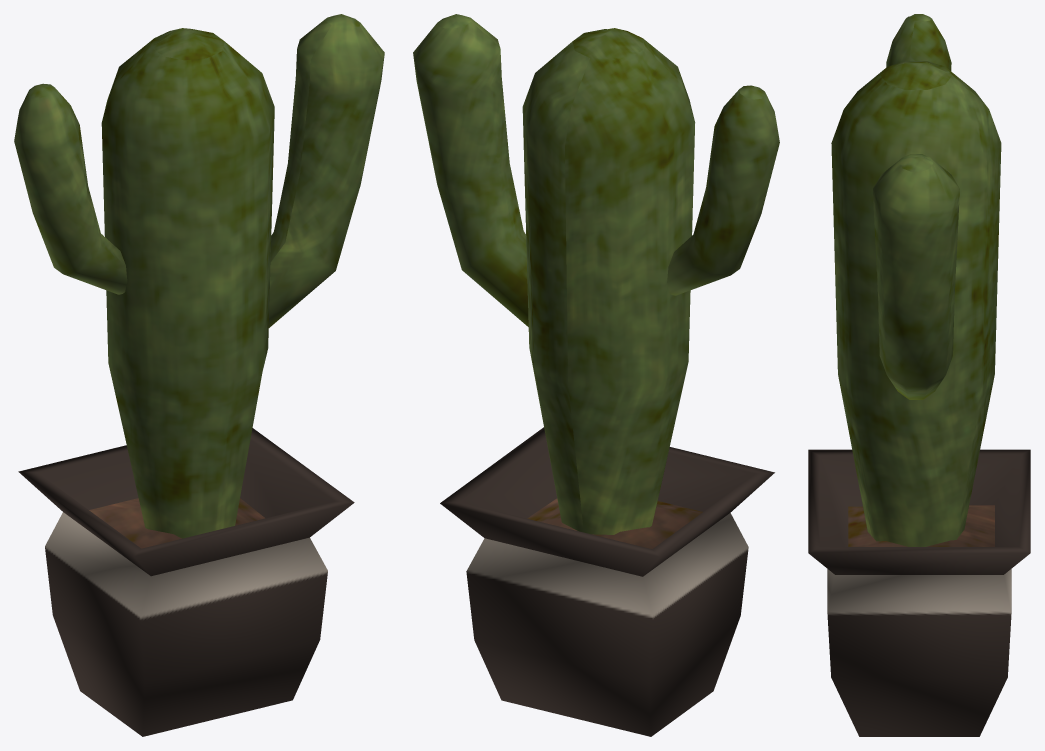
File: cactustest.fbx
3 views of the same model, side by side, from view 1: azimuth 30°, elevation 25°; view 2: azimuth 150°, elevation 25°; view 3: azimuth 270°, elevation 25° (orthographic). The views are drawn at different scales.
Parts seen in each view (by area): view 1: cactustest; view 2: cactustest; view 3: cactustest.
Part boxes in pixels (bbox=[...]): cactustest: bbox=[14, 14, 384, 736]; cactustest: bbox=[413, 14, 779, 736]; cactustest: bbox=[808, 14, 1030, 736].
Size of the model in its own units: 0.3264 by 0.5804 by 0.1834.
